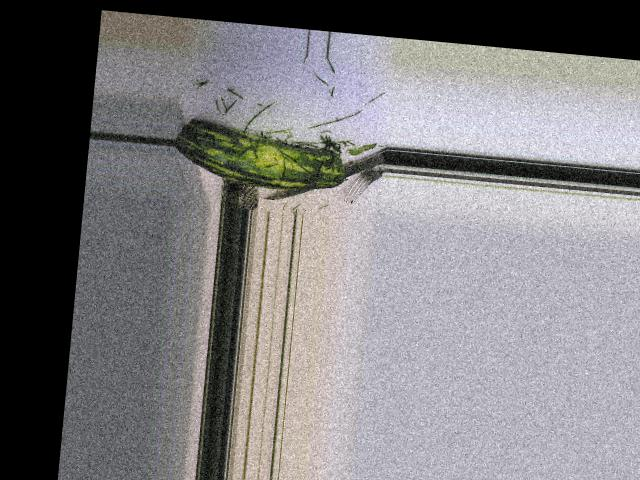cucumber: (172, 116, 349, 194)
